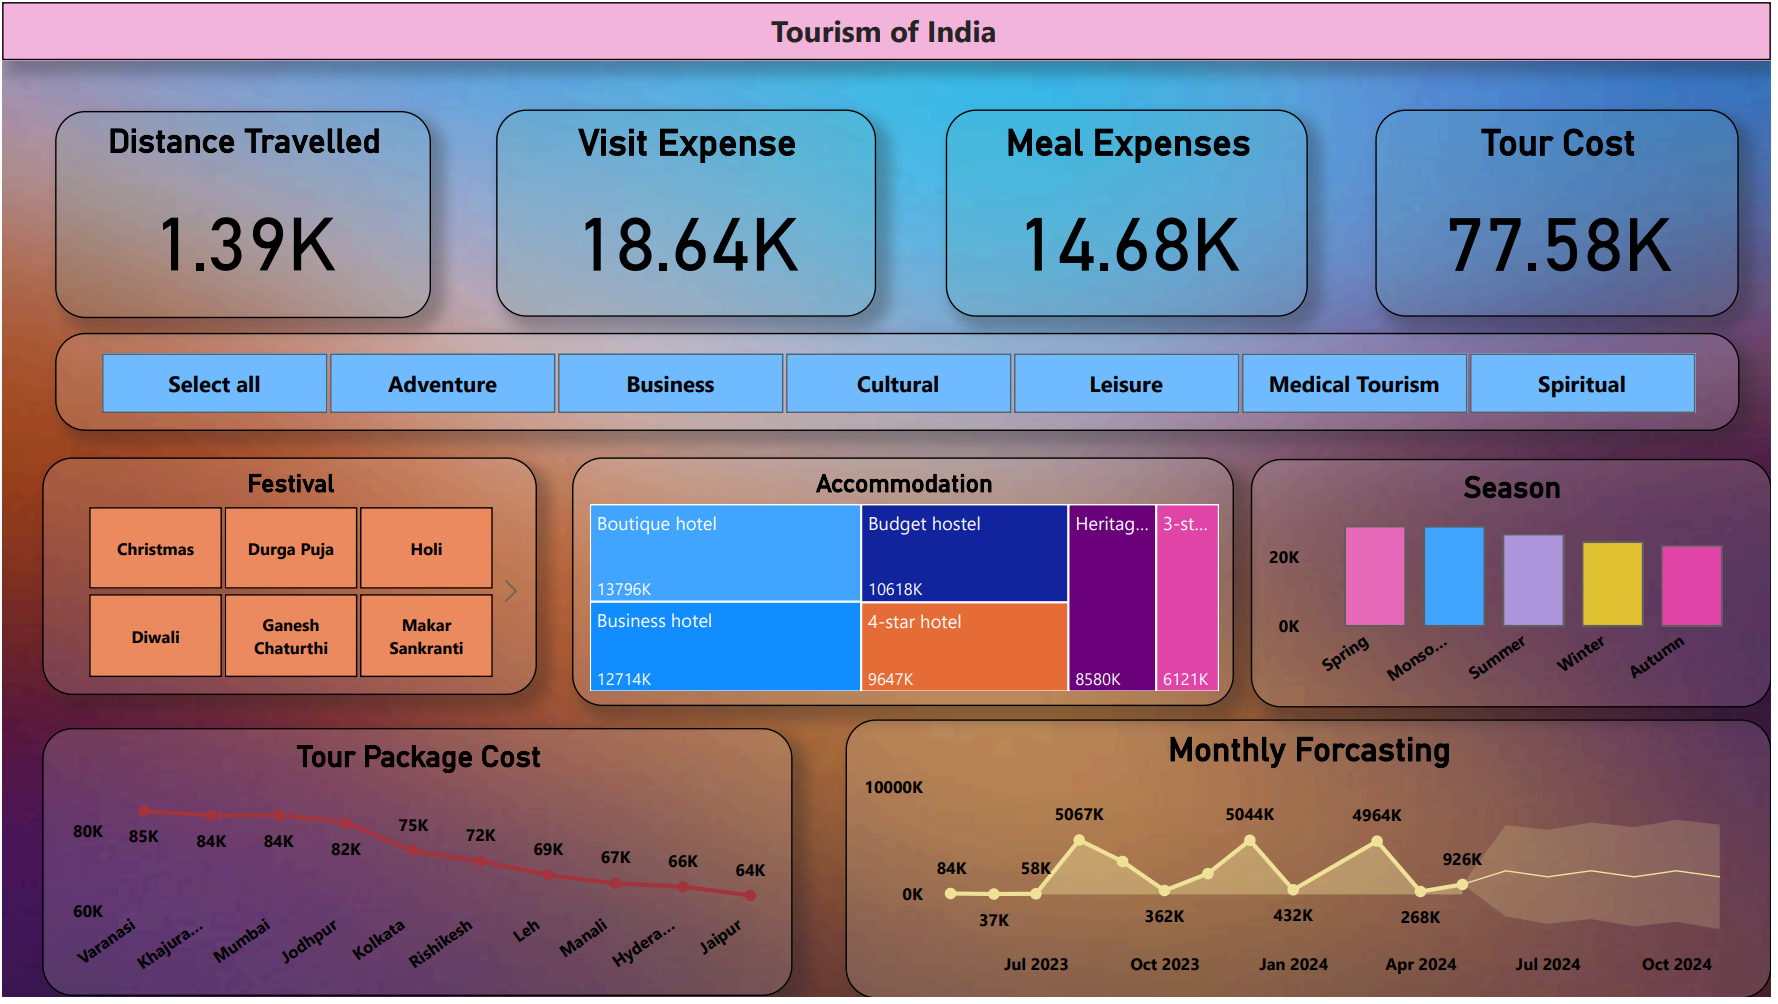

This screenshot's page, from the dashboard's own definition file:
{"tool":"powerbi","page":{"name":"Page 3","canvas":[1280,720],"ordinal":0},"visuals":[{"type":"lineChart","title":"Monthly Forcasting","fields":{"Category":["Sheet1.Trip Start.Variation.Date Hierarchy.Year","Sheet1.Trip Start.Variation.Date Hierarchy.Quarter","Sheet1.Trip Start.Variation.Date Hierarchy.Month"],"Y":["Sum(Sheet1.Revenue Impact (INR))"]},"box":[610.6,518.7,669.6,201.7],"z":0},{"type":"lineChart","title":"Tour Package Cost ","fields":{"Category":["Sheet1.Places Visited.1"],"Y":["Avg(Sheet1.Total_Tour_Cost)"]},"box":[29.1,525.6,543,194.2],"z":1000},{"type":"clusteredColumnChart","title":"Season","fields":{"Category":["Sheet1.Season"],"Y":["Avg(Sheet1.Revenue Impact (INR))"]},"box":[903.5,330.2,376.7,180.2],"z":2000},{"type":"treemap","title":"Accommodation","fields":{"Values":["Sum(Sheet1.Total_Tour_Cost)"],"Group":["Sheet1.Accommodation"]},"box":[412.8,329.1,479.1,180.2],"z":3000},{"type":"slicer","title":"Festival","fields":{"Values":["Sheet1.Festival"]},"box":[29.1,329.1,358.1,172.1],"z":4000},{"type":"slicer","fields":{"Values":["Sheet1.Purpose of Visit"]},"box":[38.4,239.5,1218.6,70.9],"z":5000},{"type":"textbox","box":[0,0,1280.2,41.9],"z":6000},{"type":"card","title":"Visit Expense","fields":{"Values":["Avg(Sheet1.Expenses Visits (INR))"]},"box":[357.3,78.2,274.7,149.6],"z":7000},{"type":"card","title":"Meal Expenses","fields":{"Values":["Avg(Sheet1.Meal Expenses (INR))"]},"box":[683.4,78.2,262.4,149.6],"z":8000},{"type":"card","title":"Distance Travelled","fields":{"Values":["Avg(Sheet1.Distance Traveled (km))"]},"box":[38.4,79.1,272.1,150],"z":9000},{"type":"card","title":"Tour Cost","fields":{"Values":["Avg(Sheet1.Total_Tour_Cost)"]},"box":[994.2,77.9,262.8,150],"z":10000}]}

Visuals, with their boxes in screenshot pixels (x1, y1, x2, y2), scaled from the page's 1280x720 canvas onto the 1778x1004 screenshot:
"Monthly Forcasting" lineChart: bbox=(848, 723, 1777, 1003)
"Tour Package Cost " lineChart: bbox=(40, 733, 795, 1003)
"Season" clusteredColumnChart: bbox=(1255, 460, 1777, 712)
"Accommodation" treemap: bbox=(573, 459, 1239, 710)
"Festival" slicer: bbox=(40, 459, 538, 699)
slicer - Sheet1.Purpose of Visit: bbox=(53, 334, 1746, 433)
textbox: bbox=(0, 0, 1777, 58)
"Visit Expense" card: bbox=(496, 109, 878, 318)
"Meal Expenses" card: bbox=(949, 109, 1314, 318)
"Distance Travelled" card: bbox=(53, 110, 431, 319)
"Tour Cost" card: bbox=(1381, 109, 1746, 318)
